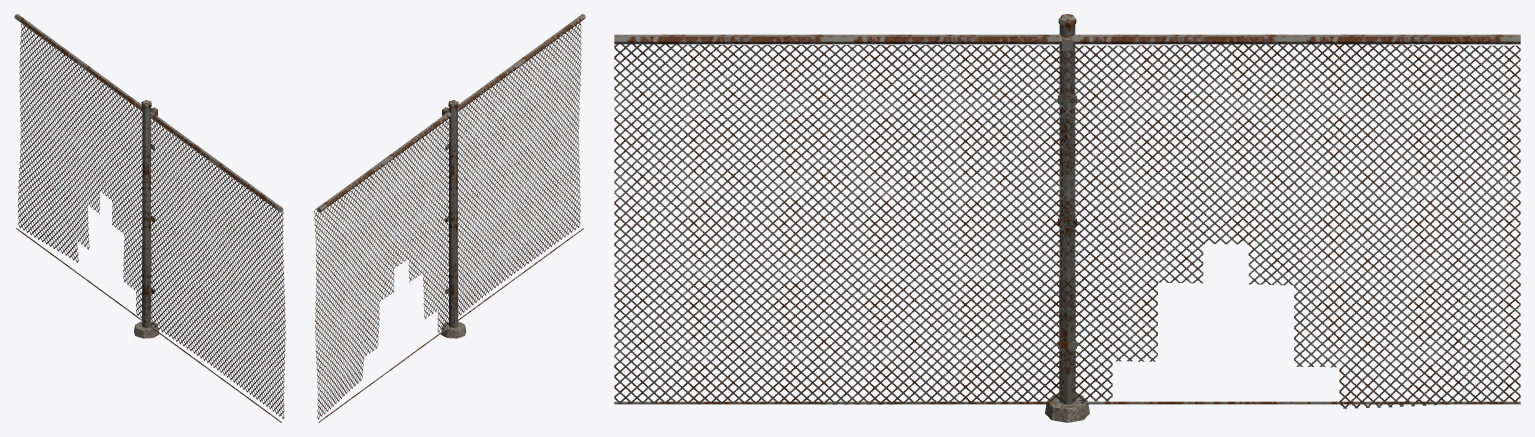
The model's file is fence_chainlink_4m.glb.
3 renders of one model, left to right at view 1: azimuth 30°, elevation 25°; view 2: azimuth 150°, elevation 25°; view 3: azimuth 270°, elevation 25°, orthographic. The views are drawn at different scales.
Visible parts, largest first — view 1: fence_chainlink_4m_chainlink, fence_chainlink_4m_galvanized, fence_chainlink_4m_concrete; view 2: fence_chainlink_4m_chainlink, fence_chainlink_4m_galvanized, fence_chainlink_4m_concrete; view 3: fence_chainlink_4m_chainlink, fence_chainlink_4m_galvanized, fence_chainlink_4m_concrete.
Part boxes in pixels (x1=…): fence_chainlink_4m_chainlink: x1=18, y1=20, x2=285, y2=419; fence_chainlink_4m_galvanized: x1=14, y1=14, x2=283, y2=422; fence_chainlink_4m_concrete: x1=134, y1=321, x2=159, y2=338; fence_chainlink_4m_chainlink: x1=314, y1=22, x2=581, y2=419; fence_chainlink_4m_galvanized: x1=316, y1=14, x2=585, y2=422; fence_chainlink_4m_concrete: x1=441, y1=321, x2=466, y2=338; fence_chainlink_4m_chainlink: x1=614, y1=43, x2=1520, y2=408; fence_chainlink_4m_galvanized: x1=614, y1=14, x2=1520, y2=404; fence_chainlink_4m_concrete: x1=1045, y1=394, x2=1089, y2=422.
Bounding box in the file's own units: 0.2029 × 1.94 × 4.
Materials: 3 (3 with a texture image).
